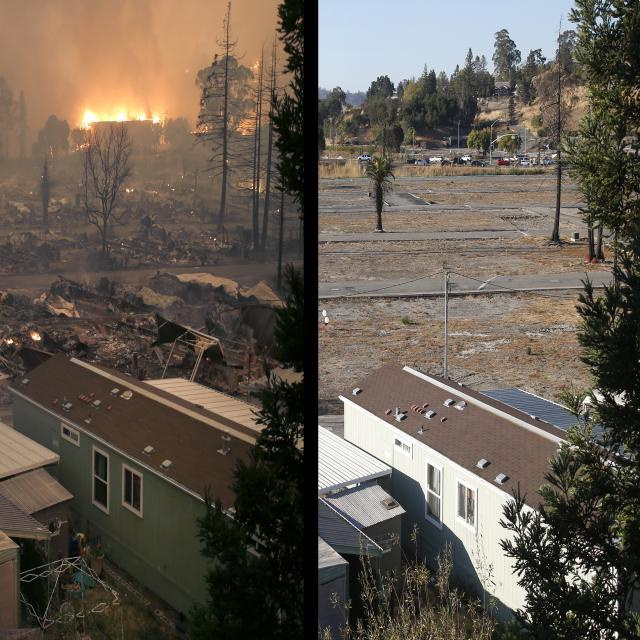Fire: (72, 99, 166, 142)
Smoke: (0, 0, 194, 123)
